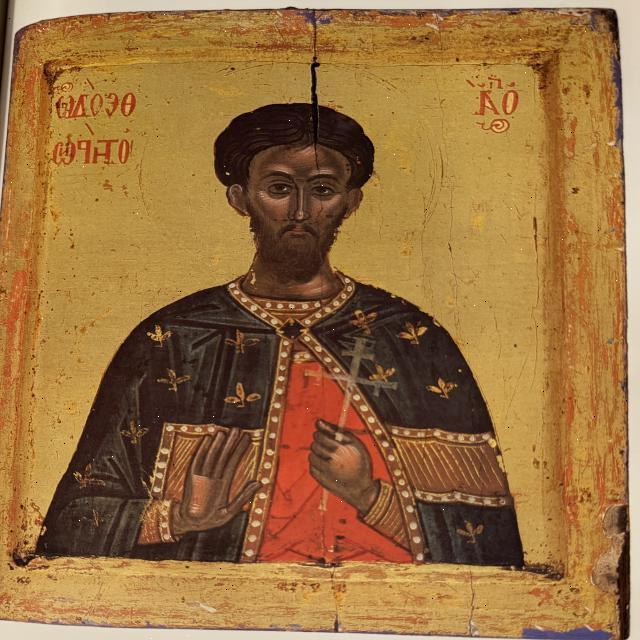saint: (32, 58, 532, 568)
